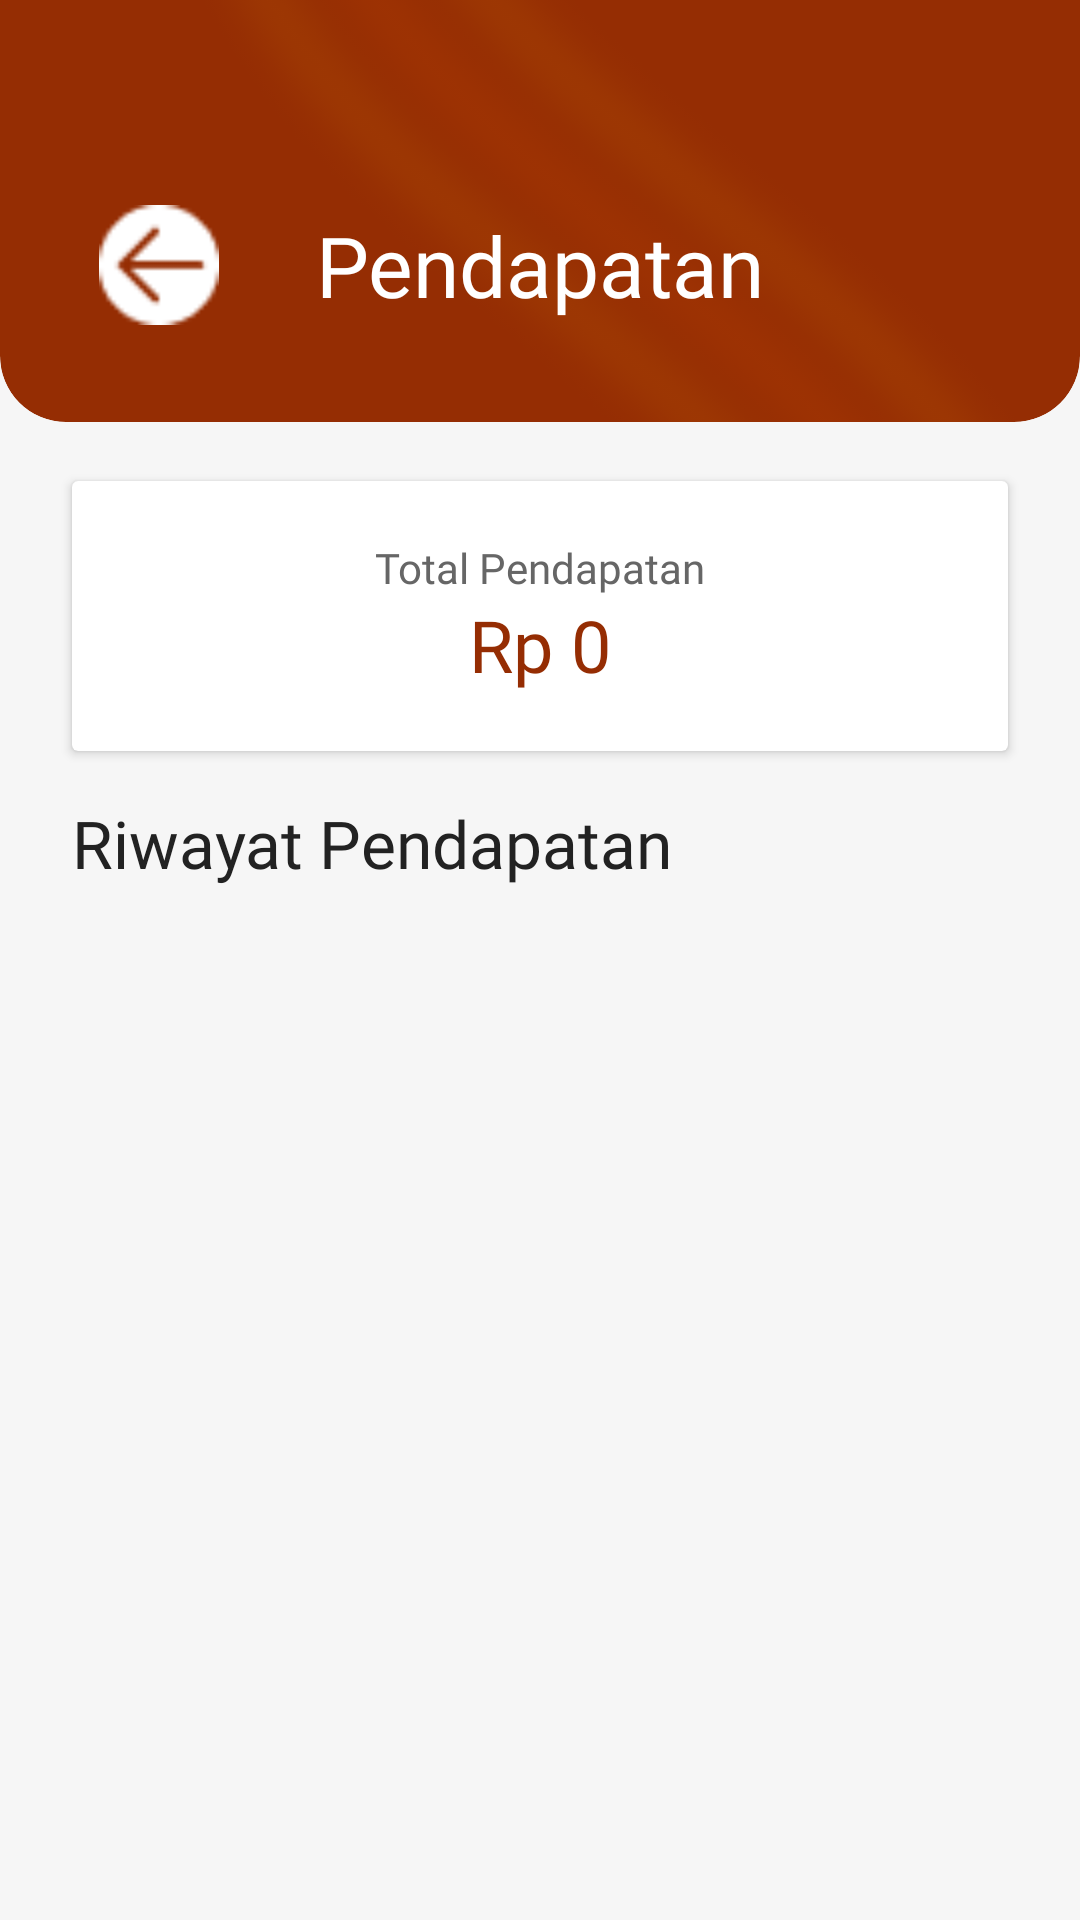

Point at icon controls on the screen. Image size 1080px×1920px, points as (x,y).
back: (159,265)
